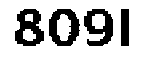0: (47, 7, 83, 49)
8: (10, 5, 47, 49)
9: (83, 8, 116, 49)
l: (117, 5, 138, 51)
